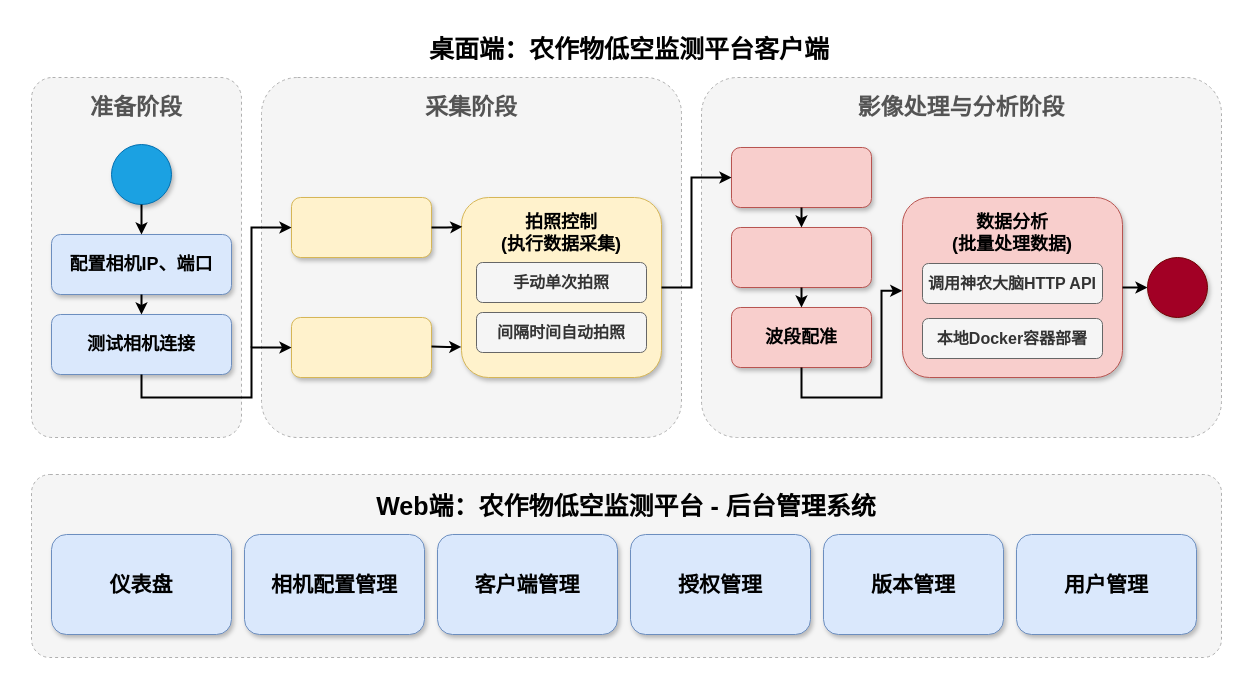
Some shapes in this 1258 by 675 pixel diagram are drawn without their labels. The shapes that lost their labels are listed below. From the top down, each one's centre as x and y in pixels, then its label:
the point at 142,176: 开始
the point at 802,178: 文件管理 (数据下载)
the point at 362,228: 预览页面 (检查相机视野)
the point at 802,258: 辐射定标
the point at 1178,288: 结束
the point at 362,348: 相机状态页面 (检查GPS、DLS状态)
